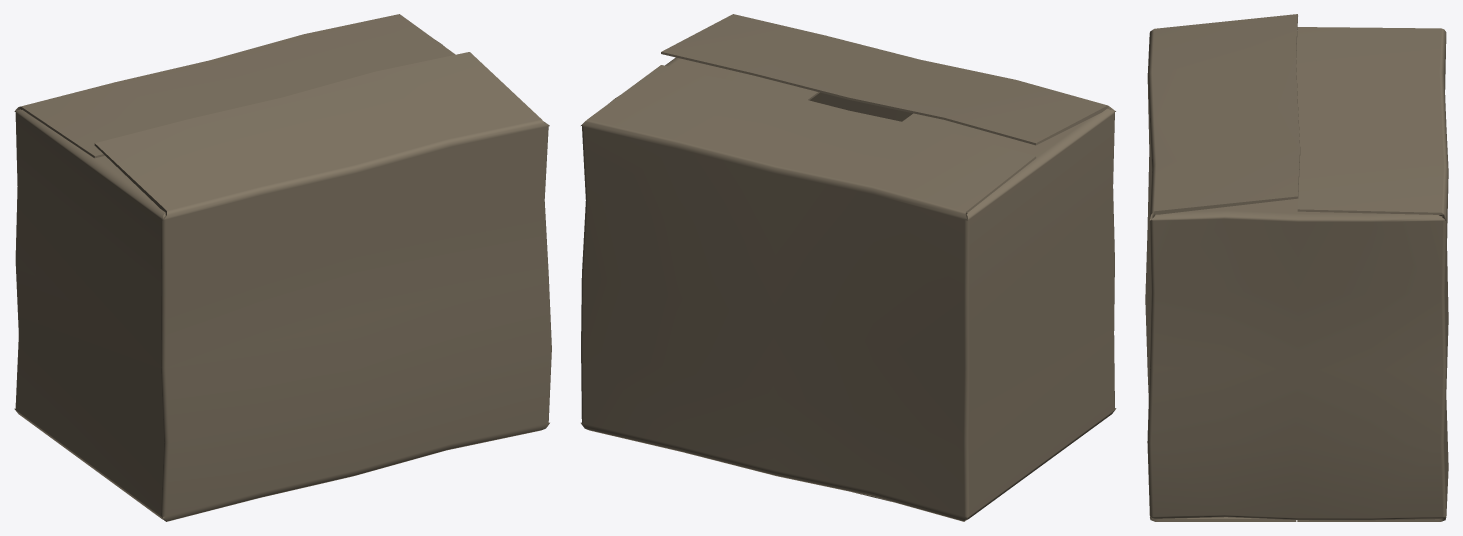
File: open_box.fbx
3 views of the same model, side by side, from view 1: azimuth 30°, elevation 25°; view 2: azimuth 150°, elevation 25°; view 3: azimuth 270°, elevation 25° (orthographic).
Visible parts, largest first — view 1: open_box; view 2: open_box; view 3: open_box.
Part boxes in pixels (bbox=[...]): open_box: bbox=[14, 14, 551, 521]; open_box: bbox=[581, 14, 1116, 521]; open_box: bbox=[1145, 14, 1448, 521].
Size of the model in its own units: 1.38 by 1.11 by 0.9287.
